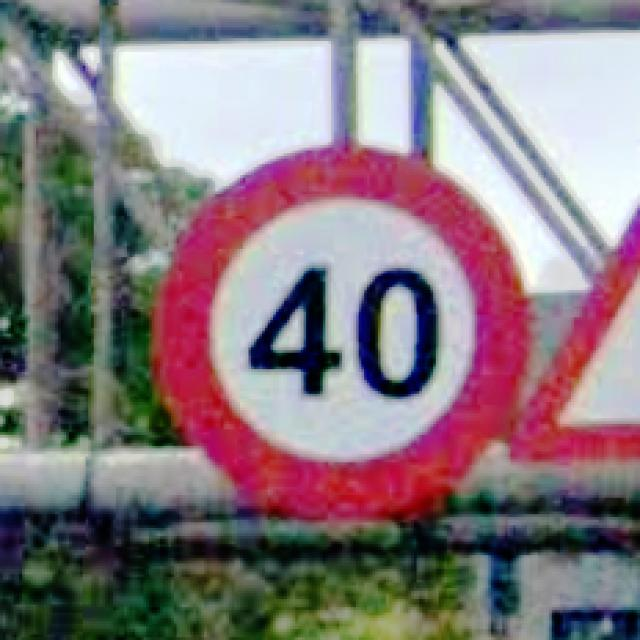max40: (149, 136, 532, 520)
